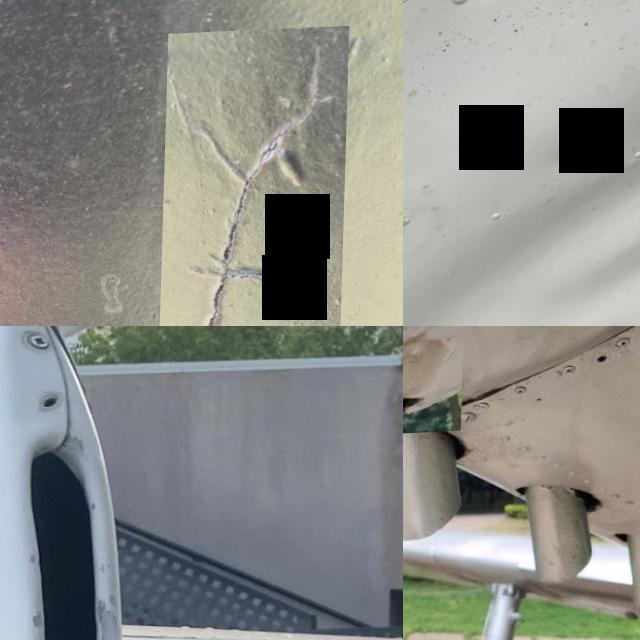Crack: (160, 30, 349, 326)
Dent: (403, 77, 640, 326), (403, 326, 465, 439)
Missing_Fastener: (39, 394, 64, 416)
